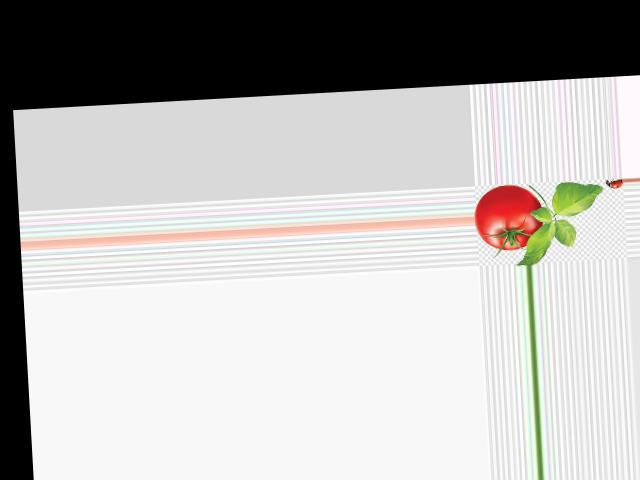tomato: (473, 183, 544, 251)
